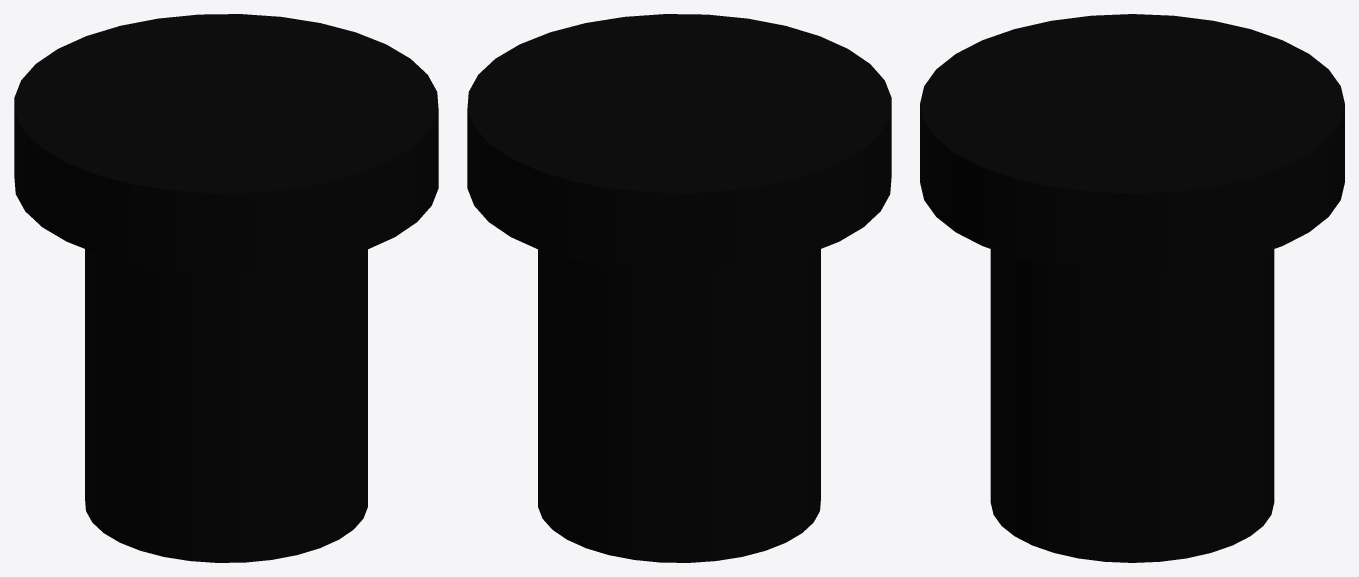
File: pipe.obj
The picture shows the model from 3 angles, left to right: view 1: azimuth 30°, elevation 25°; view 2: azimuth 150°, elevation 25°; view 3: azimuth 270°, elevation 25°; orthographic projection.
Visible parts, largest first — view 1: Circle; view 2: Circle; view 3: Circle.
Part boxes in pixels (x1,y1,x2,y2): Circle: (14, 14, 438, 562); Circle: (467, 14, 891, 562); Circle: (920, 14, 1344, 562).
Size of the model in its own units: 11.94 by 12.39 by 11.94.
